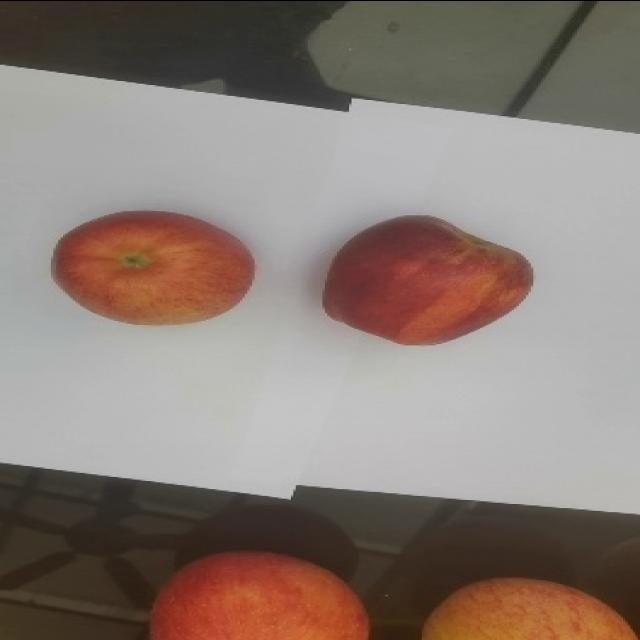Apple: (321, 213, 533, 346), (50, 209, 255, 326), (148, 549, 370, 639), (420, 576, 638, 639)
